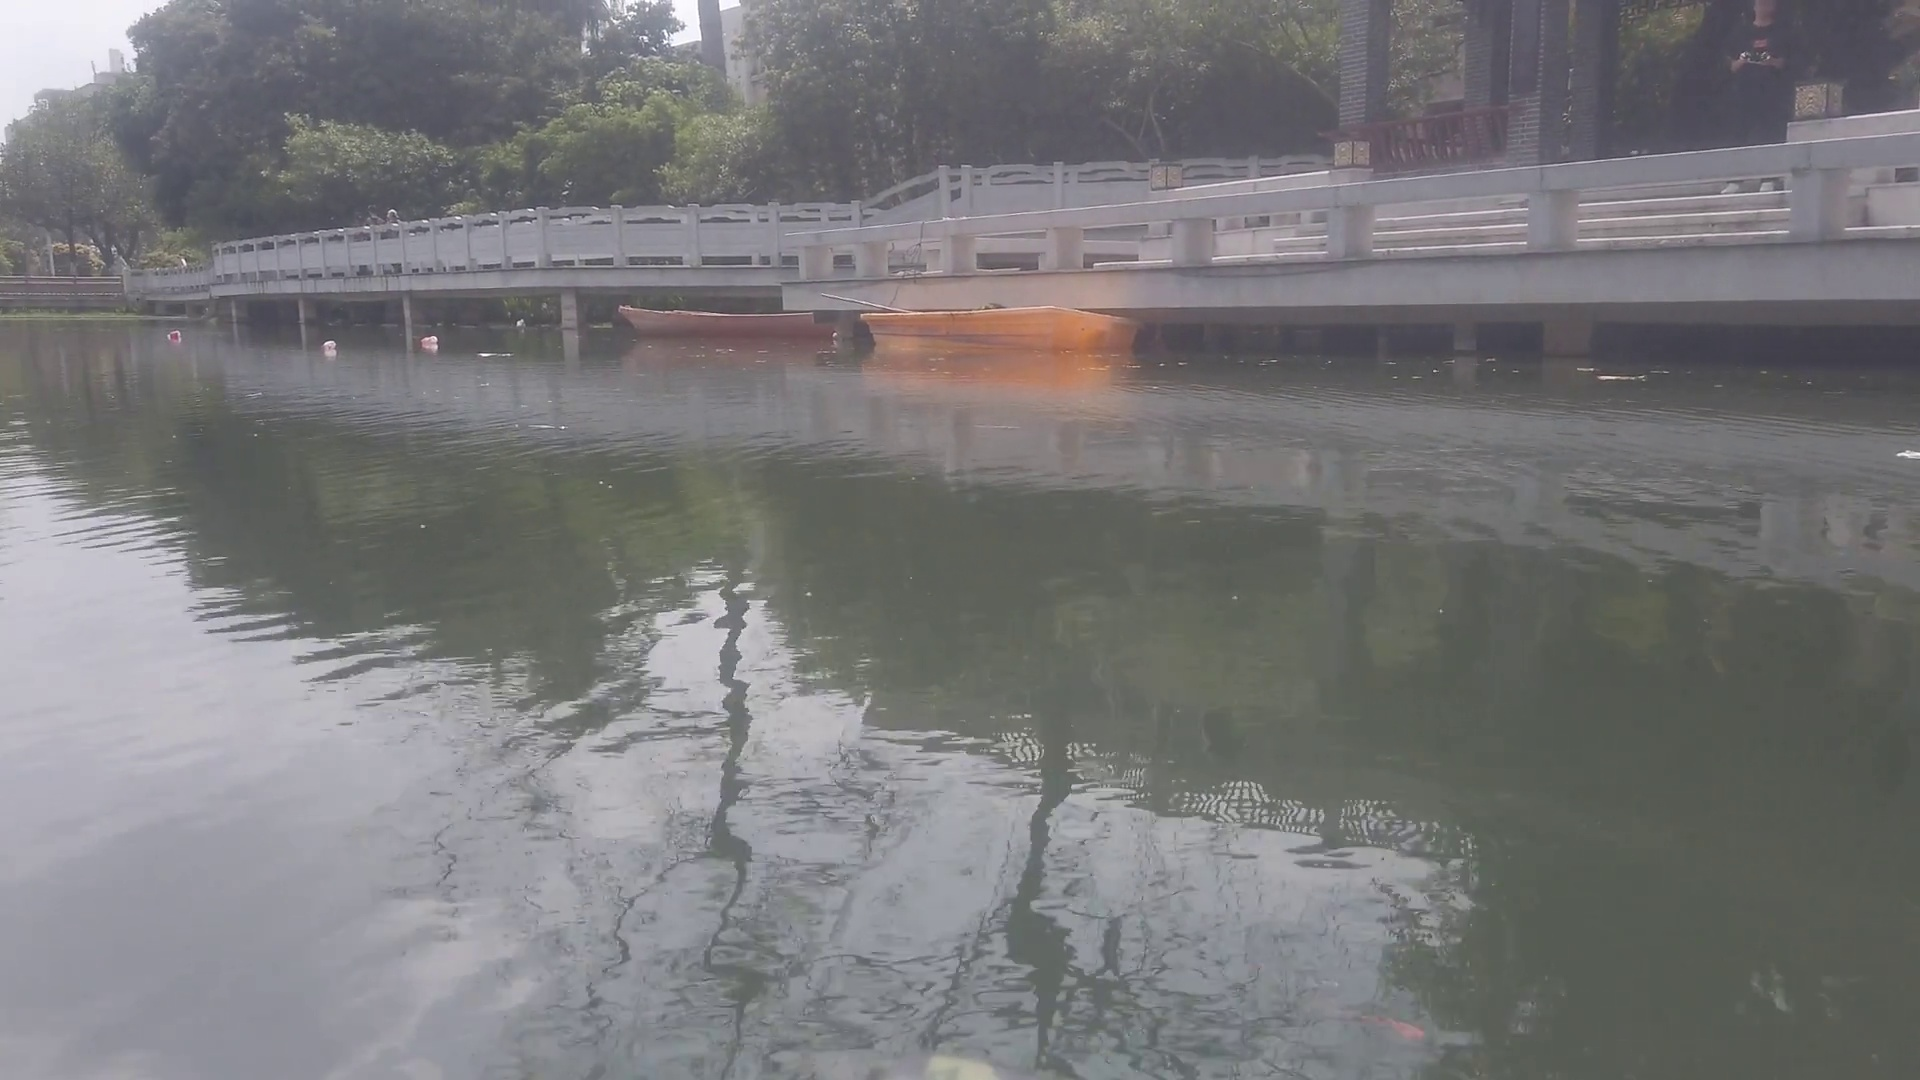bottle: (418, 332, 440, 348), (318, 339, 342, 349), (165, 328, 185, 340)
paper: (477, 348, 512, 357)
